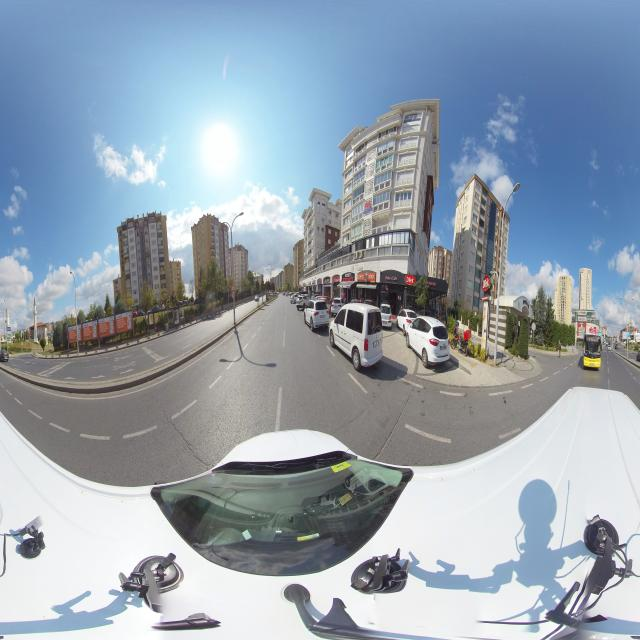SignStore: (380, 270, 416, 286), (357, 270, 376, 282), (342, 273, 355, 282), (324, 277, 331, 284), (333, 276, 340, 282), (317, 278, 322, 284), (312, 280, 316, 285), (308, 281, 312, 286), (577, 336, 583, 338)
